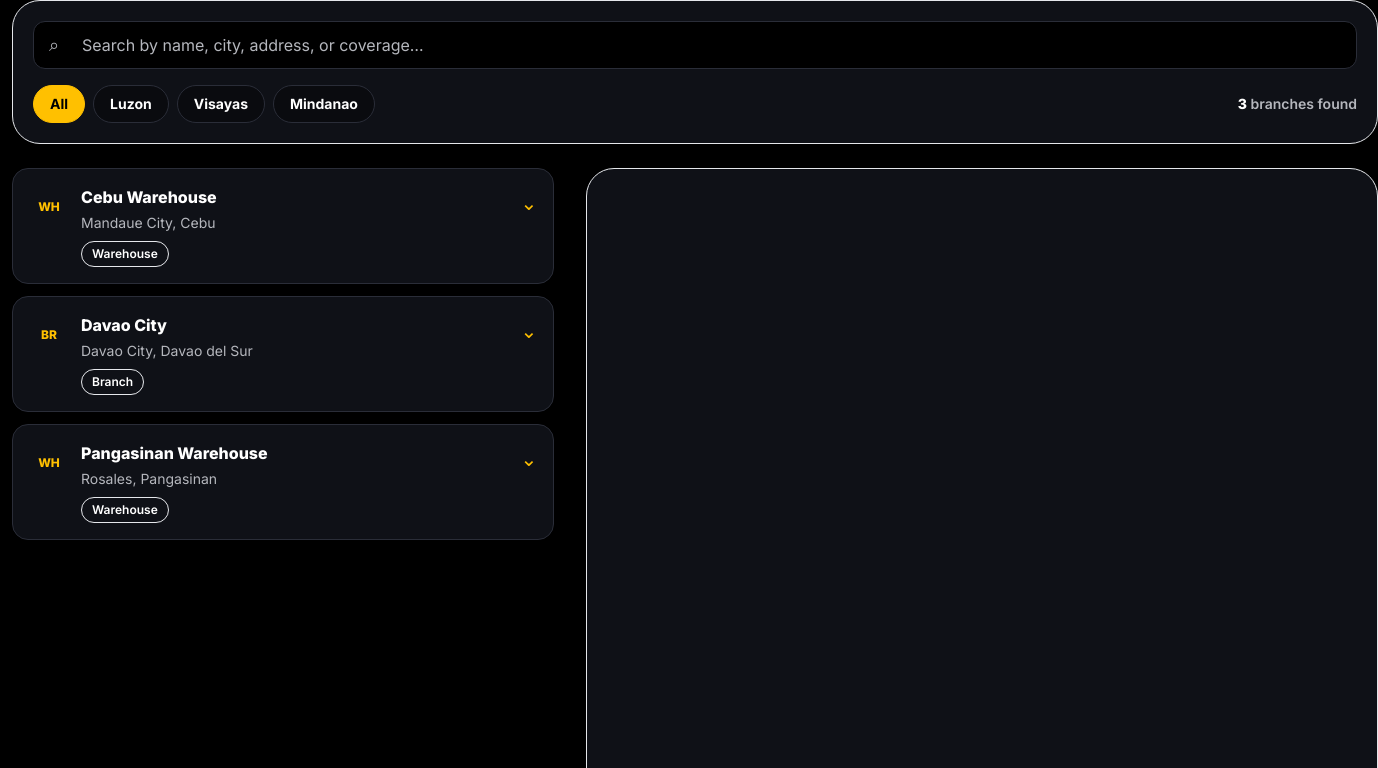
Test: BranchLocator › filters by island group and provides an empty-state reset
Click the button "Mindanao": click(324, 104) [273,85,375,123]
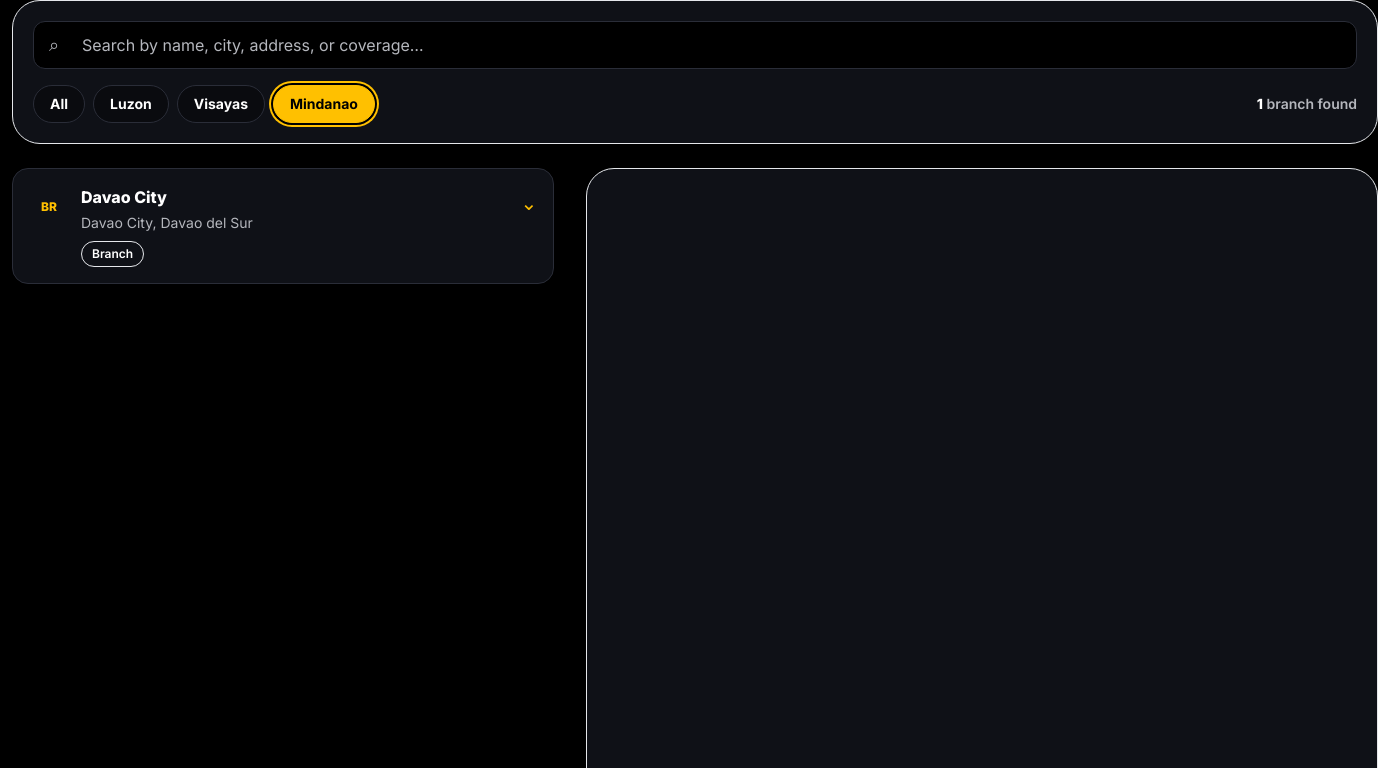
Check: the text "Davao City" is shown, box [81,187,167,207]
Check: the button "Cebu Warehouse" is gone
In the search field named "Search branches": (695, 45) [33,21,1357,69], type "missing"
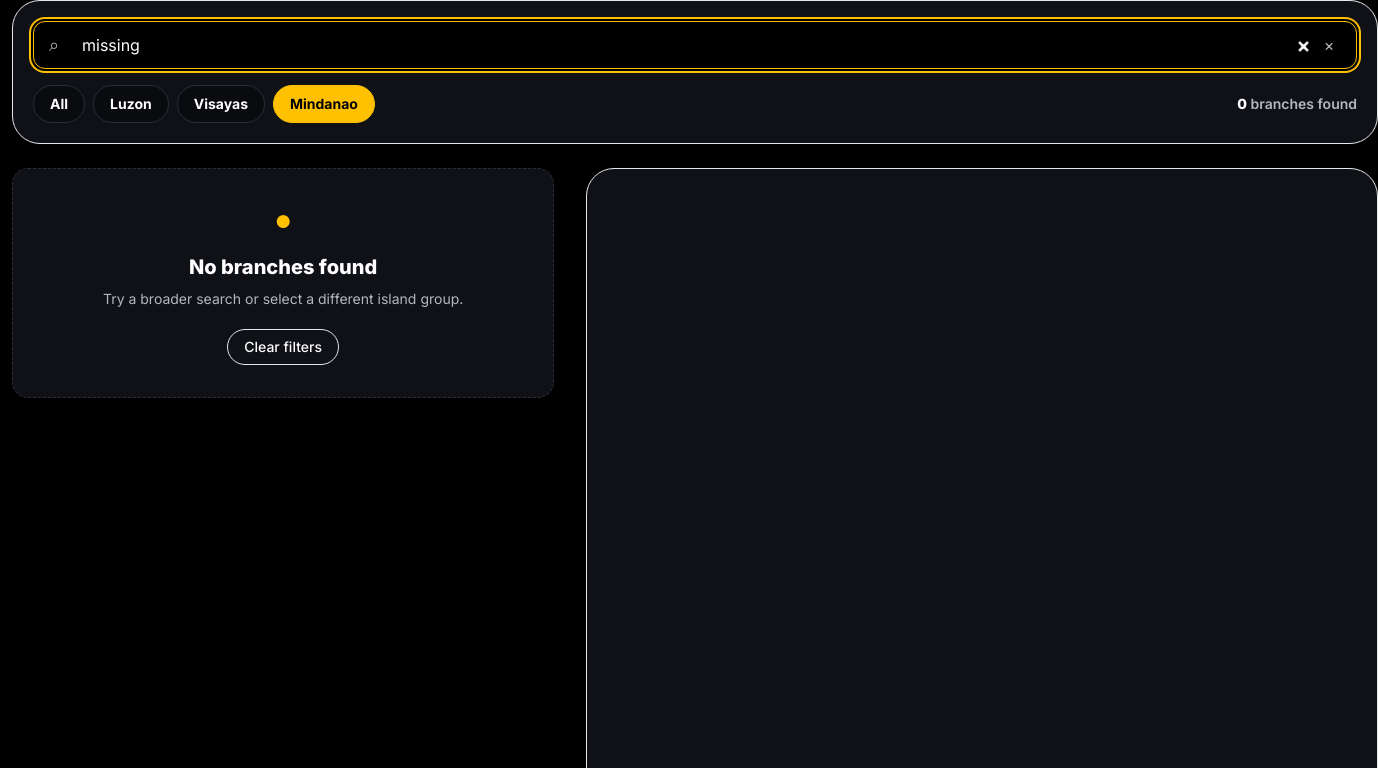
Check: the heading "No branches found" is shown, box [189,255,377,279]
Click the button "Clear filters": click(283, 347) [227,329,339,365]
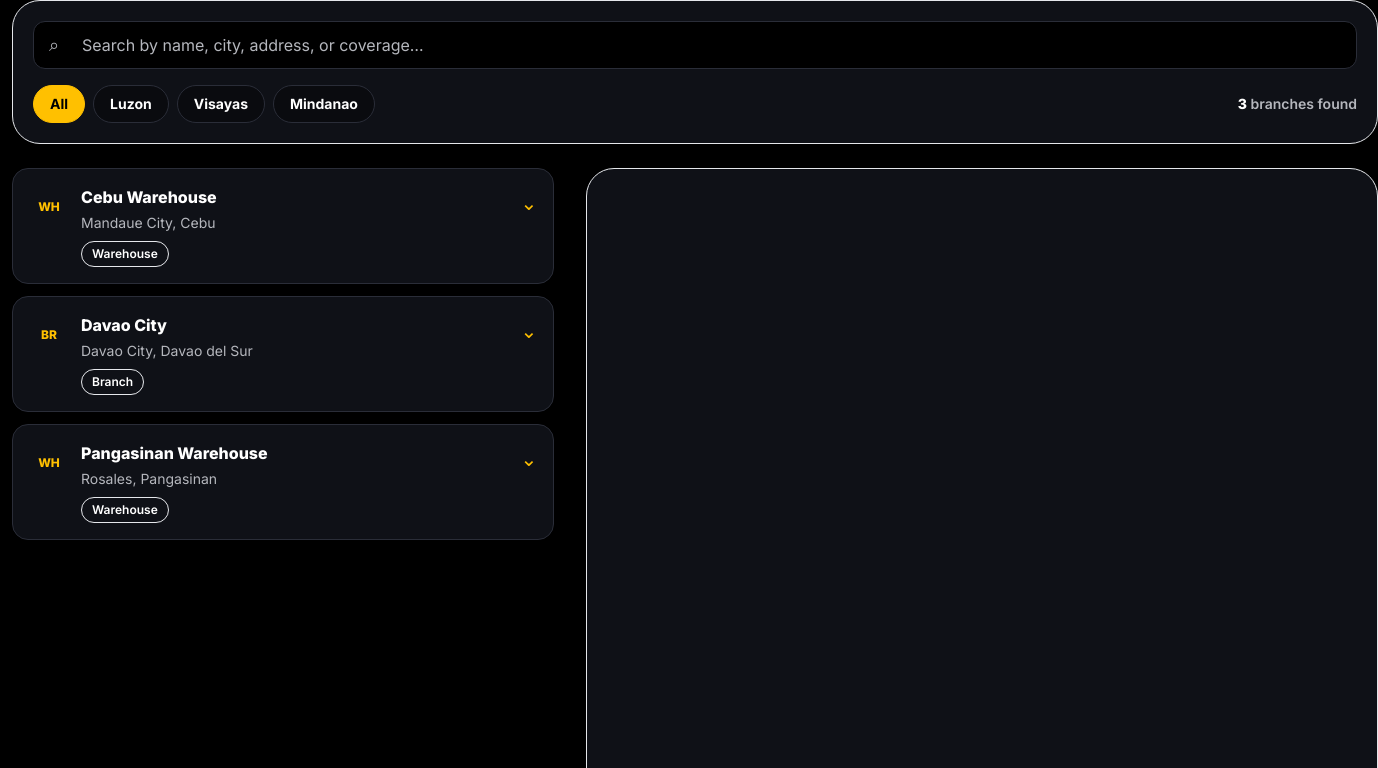
Check: the text "Cebu Warehouse" is shown, box [81,187,217,207]
